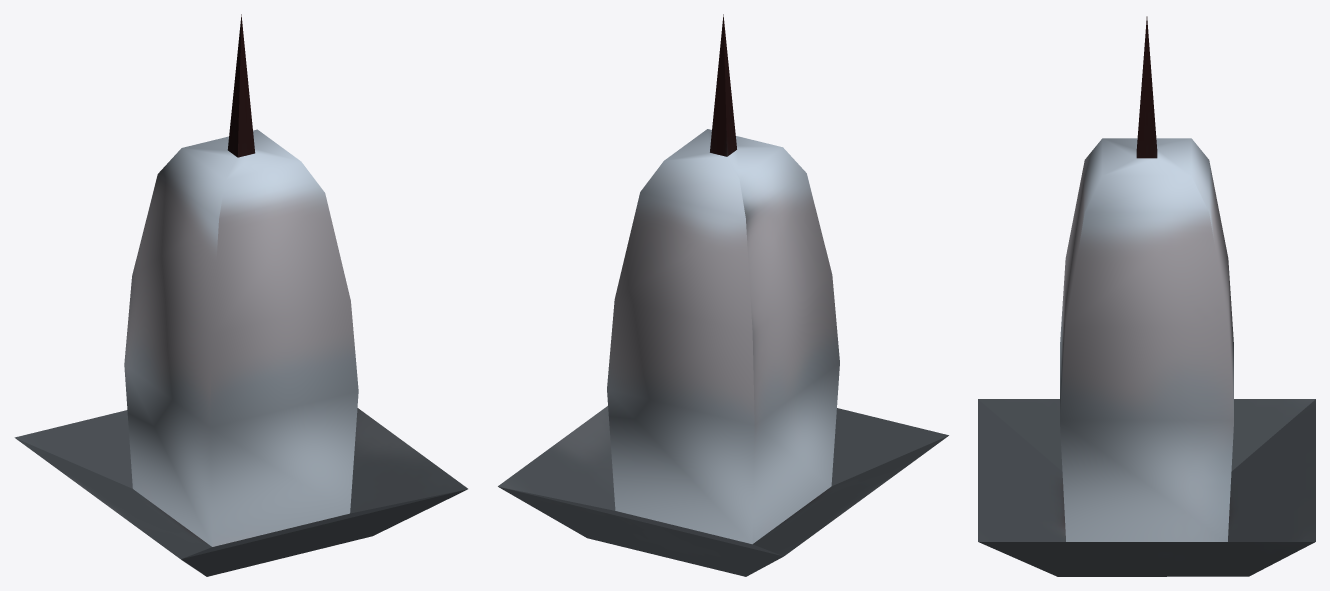
The model's file is library-candle.fbx.
3 renders of one model, left to right at view 1: azimuth 30°, elevation 25°; view 2: azimuth 150°, elevation 25°; view 3: azimuth 270°, elevation 25°, orthographic. The views are drawn at different scales.
Visible parts, largest first — view 1: candle; view 2: candle; view 3: candle.
Boxes of the visible parts, x1,y1,x2,y2 form: candle: (14,14,467,576); candle: (498,14,948,576); candle: (978,16,1315,576).
Bounding box in the file's own units: 79.57 × 135 × 79.57.
